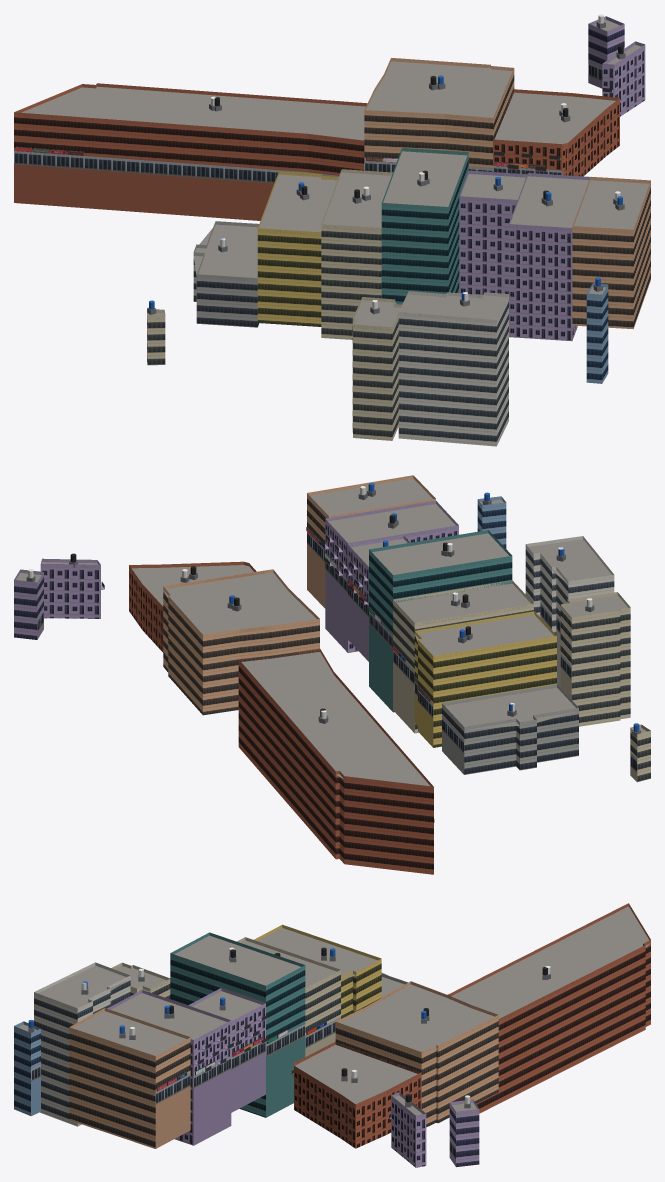
Rendered from session-road-buildings-4.982a9c68.glb.
The picture shows the model from 3 angles, top to bottom: view 1: azimuth 30°, elevation 25°; view 2: azimuth 150°, elevation 25°; view 3: azimuth 270°, elevation 25°; orthographic projection. The views are drawn at different scales.
Size of the model in its own units: 155 by 50.19 by 163.
Materials: 6 (4 with a texture image).
